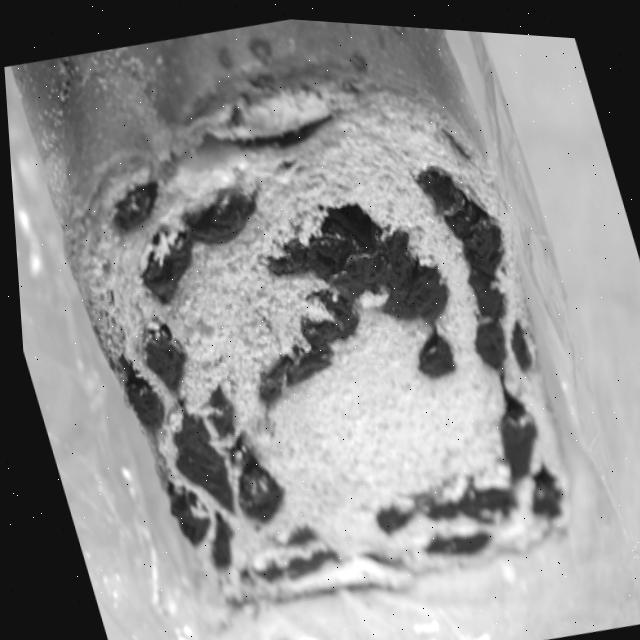面包点心: (0, 0, 605, 635)
